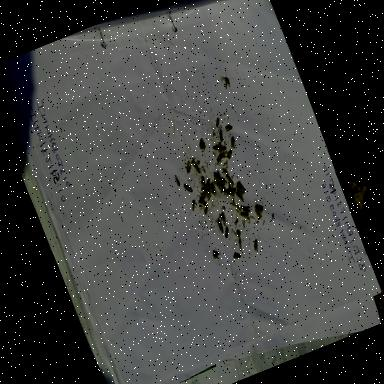pbw: (212, 169, 226, 192), (182, 158, 196, 176), (207, 180, 219, 199), (222, 119, 236, 135), (190, 159, 202, 176), (238, 209, 252, 223), (220, 224, 232, 240), (187, 197, 199, 213), (213, 152, 226, 166), (182, 181, 194, 196), (215, 127, 227, 142), (250, 236, 262, 251), (232, 180, 243, 196), (237, 180, 248, 196), (203, 186, 214, 202), (200, 202, 212, 216), (227, 135, 239, 149), (198, 178, 208, 194), (215, 217, 225, 233), (230, 249, 242, 262), (213, 116, 224, 130), (218, 211, 228, 226), (196, 200, 208, 212), (235, 238, 245, 252), (202, 178, 213, 190), (225, 148, 236, 160), (228, 225, 238, 238), (225, 174, 235, 187), (173, 172, 182, 186), (240, 204, 252, 214), (210, 143, 222, 153), (235, 192, 244, 204), (234, 230, 242, 243), (217, 146, 229, 154), (225, 186, 234, 196)
